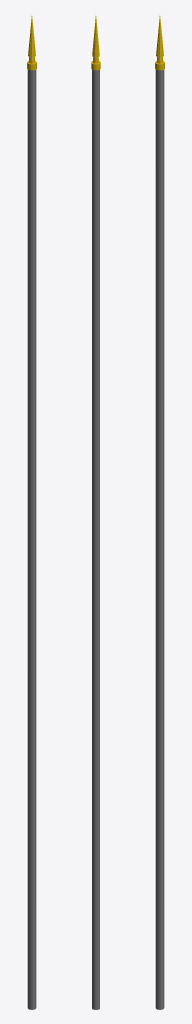
Rendered from CactusNeedle.fbx.
3 views of the same model, side by side, from view 1: azimuth 90°, elevation 25°; view 2: azimuth 210°, elevation 25°; view 3: azimuth 270°, elevation 25° (orthographic).
Parts seen in each view (by area): view 1: pCylinder356; view 2: pCylinder356; view 3: pCylinder356.
Boxes of the visible parts, left/top/right/bottom form: pCylinder356: left=27, top=16, right=36, bottom=1009; pCylinder356: left=91, top=16, right=100, bottom=1009; pCylinder356: left=155, top=16, right=164, bottom=1009.
Size of the model in its own units: 0.0642 by 7.07 by 0.0642.
